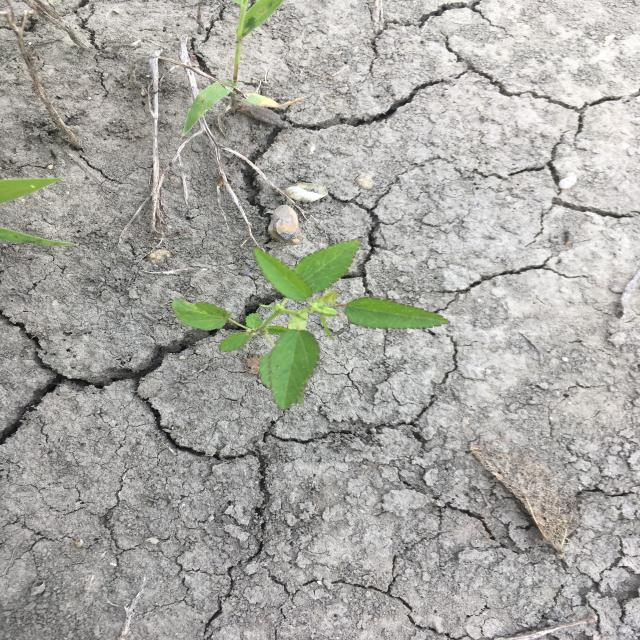PricklySida: (168, 238, 453, 412)
